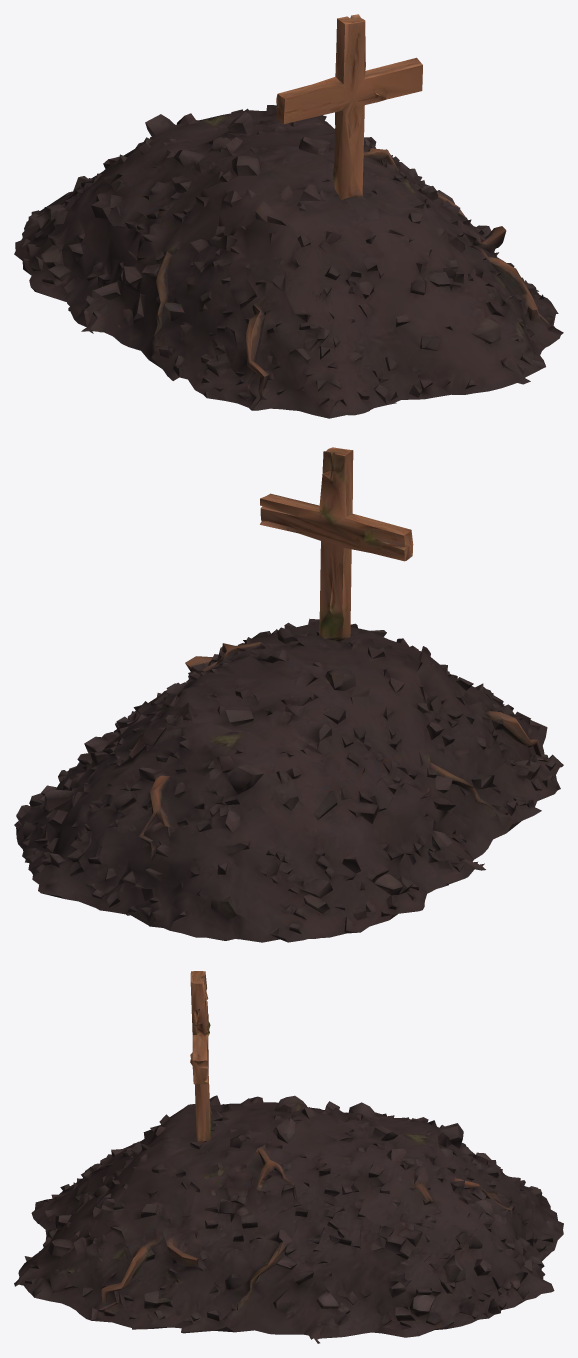
Rendered from grave_mound_holm_idle.glb.
3 renders of one model, top to bottom at view 1: azimuth 30°, elevation 25°; view 2: azimuth 150°, elevation 25°; view 3: azimuth 270°, elevation 25°, orthographic. The views are drawn at different scales.
Visible parts, largest first — view 1: tripo_node_9bc8816d-b431-41fe-851f-f12c5592b4b0; view 2: tripo_node_9bc8816d-b431-41fe-851f-f12c5592b4b0; view 3: tripo_node_9bc8816d-b431-41fe-851f-f12c5592b4b0.
Part boxes in pixels (x1,y1,x2,y2): tripo_node_9bc8816d-b431-41fe-851f-f12c5592b4b0: (14, 14, 563, 418); tripo_node_9bc8816d-b431-41fe-851f-f12c5592b4b0: (14, 447, 563, 942); tripo_node_9bc8816d-b431-41fe-851f-f12c5592b4b0: (14, 971, 563, 1343).
Size of the model in its own units: 1.5 by 1.11 by 1.96.
Materials: 1 (1 with a texture image).
